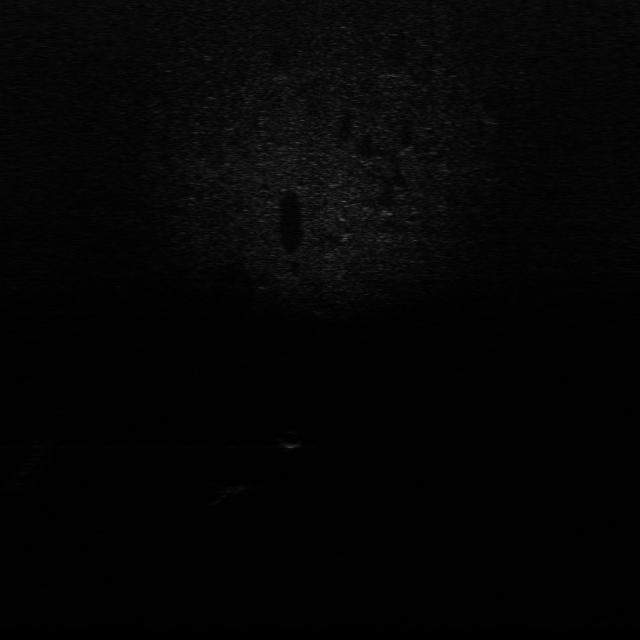ball: (278, 429, 308, 452)
square cage: (206, 481, 260, 504)
